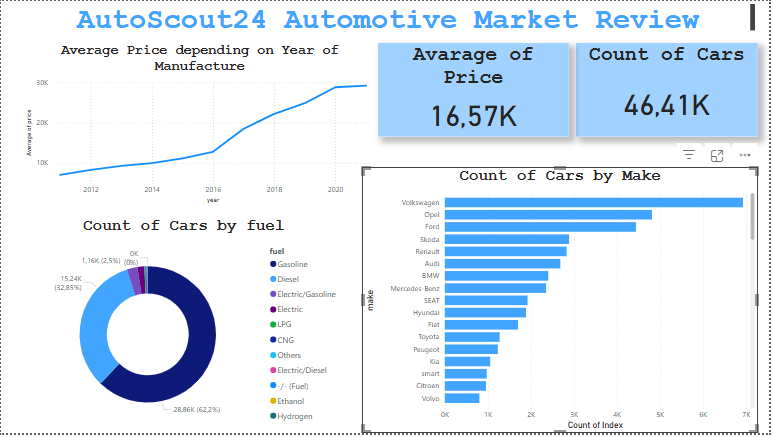

What the dashboard file says about the page in this screenshot:
{"tool":"powerbi","page":{"name":"Page 1","canvas":[1280,720],"ordinal":0},"visuals":[{"type":"clusteredBarChart","title":"Count of Cars by Make","fields":{"Category":["autoscout24.make"],"Y":["CountNonNull(autoscout24.Index)"]},"box":[586.2,277.2,660.2,443.5],"z":0},{"type":"donutChart","title":"Count of Cars by fuel","fields":{"Category":["autoscout24.fuel"],"Y":["CountNonNull(autoscout24.Index)"]},"box":[37,359.5,535.9,361.2],"z":1000},{"type":"card","title":"Count of Cars","fields":{"Values":["CountNonNull(autoscout24.Index)"]},"box":[959.2,89,302.4,156.2],"z":2000},{"type":"lineChart","title":"Average Price depending on Year of Manufacture","fields":{"Y":["Avg(autoscout24.price)"],"Category":["autoscout24.year"]},"box":[37,70.6,589.6,272.1],"z":3000},{"type":"card","title":"Avarage of Price","fields":{"Values":["Avg(autoscout24.price)"]},"box":[626.6,89,317.5,156.2],"z":4000},{"type":"textbox","box":[37,0,1224.6,58.8],"z":4001}]}

Visuals, with their boxes in screenshot pixels (x1, y1, x2, y2), scaled from the page's 1280x720 canvas onto the 773x437 screenshot:
"Count of Cars by Make" clusteredBarChart: <region>354, 168, 753, 436</region>
"Count of Cars by fuel" donutChart: <region>22, 218, 346, 436</region>
"Count of Cars" card: <region>579, 54, 762, 149</region>
"Average Price depending on Year of Manufacture" lineChart: <region>22, 43, 378, 208</region>
"Avarage of Price" card: <region>378, 54, 570, 149</region>
textbox: <region>22, 0, 762, 36</region>
